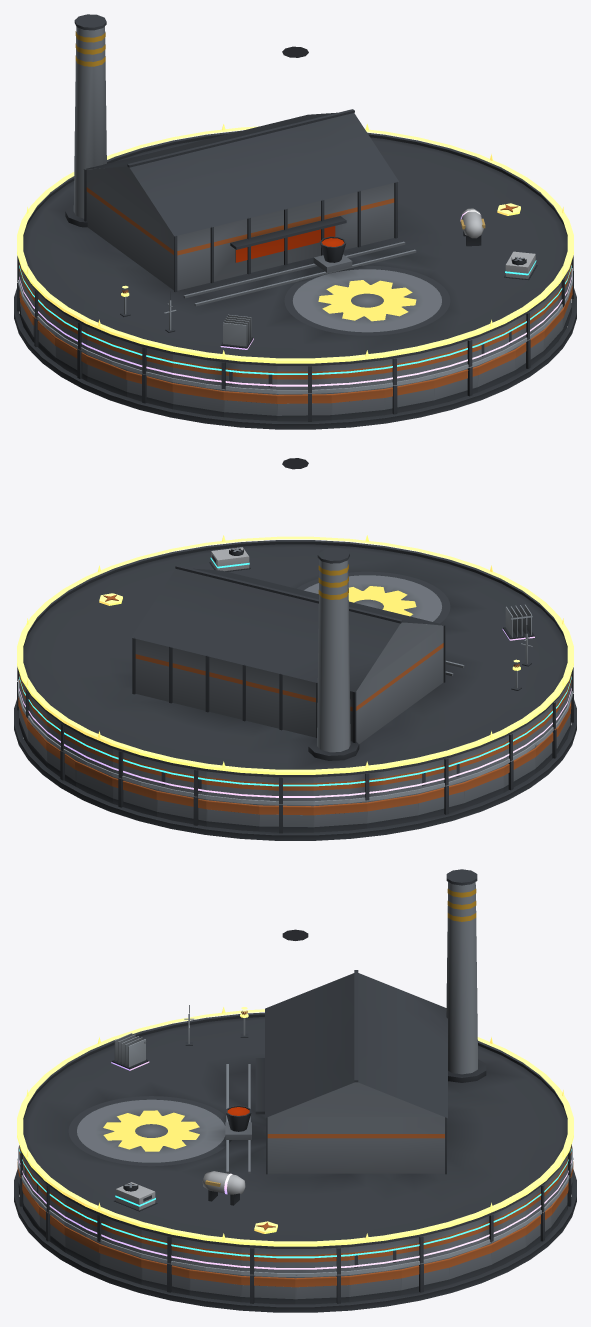
File: steel_mill_xl_far.glb
3 views of the same model, one above another, from view 1: azimuth 30°, elevation 25°; view 2: azimuth 150°, elevation 25°; view 3: azimuth 270°, elevation 25° (orthographic).
Parts seen in each view (by area): view 1: Roof, Base, L5, L4, L2, L3; view 2: Roof, Base, L5, L2, L4, L3; view 3: Roof, Base, L5, L4, L2, L3.
Part boxes in pixels (<box>): Roof: <box>17,14,573,392</box>; Base: <box>14,270,576,429</box>; L5: <box>17,124,573,363</box>; L4: <box>19,208,571,386</box>; L2: <box>18,268,572,393</box>; L3: <box>19,251,571,374</box>; Roof: <box>17,458,573,804</box>; Base: <box>14,682,576,840</box>; L5: <box>17,535,573,774</box>; L2: <box>18,625,572,805</box>; L4: <box>19,604,571,797</box>; L3: <box>19,547,571,786</box>; Roof: <box>19,869,571,1274</box>; Base: <box>14,1158,576,1312</box>; L5: <box>17,1007,573,1246</box>; L4: <box>19,1033,571,1269</box>; L2: <box>18,1005,572,1276</box>; L3: <box>19,1148,571,1258</box>.
Bounding box in the file's own units: 23.15 × 11.72 × 23.15.
